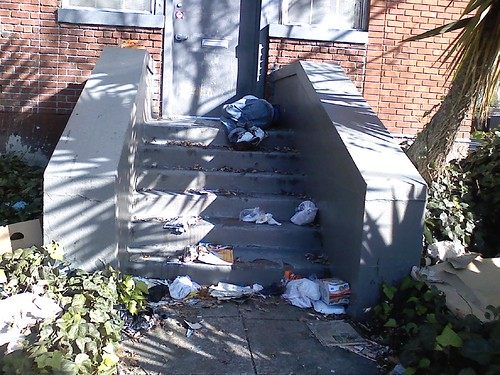building: (1, 1, 469, 158)
door: (170, 1, 260, 115)
trash: (52, 92, 361, 375)
